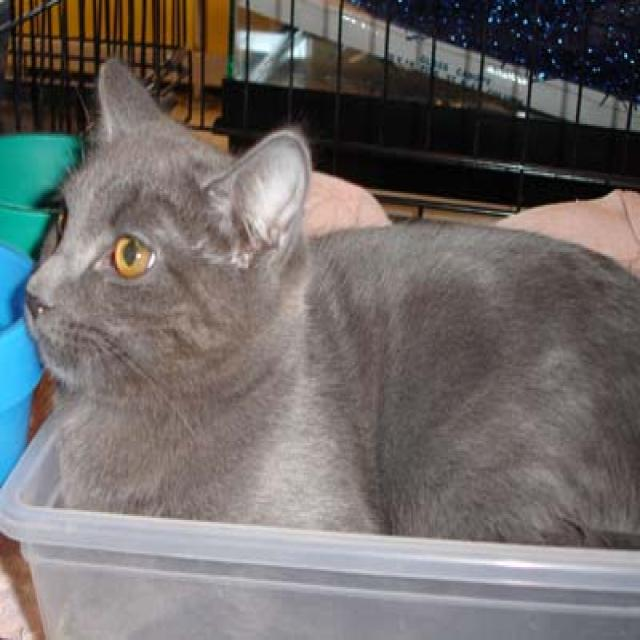Cats: (21, 54, 638, 552)
